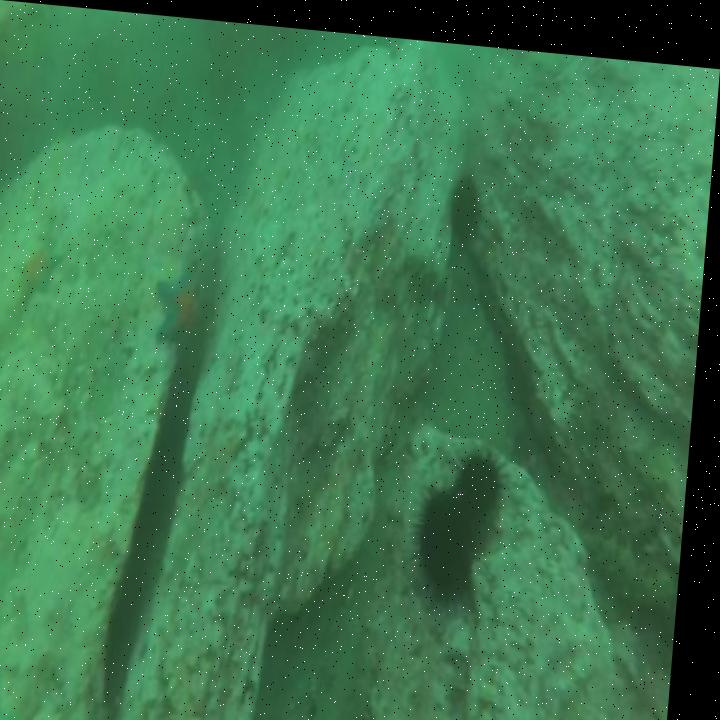echinus: (422, 481, 487, 594), (464, 437, 510, 510), (453, 169, 484, 240)
holothurian: (589, 515, 685, 609)
starfish: (157, 266, 211, 343), (20, 246, 67, 300)
